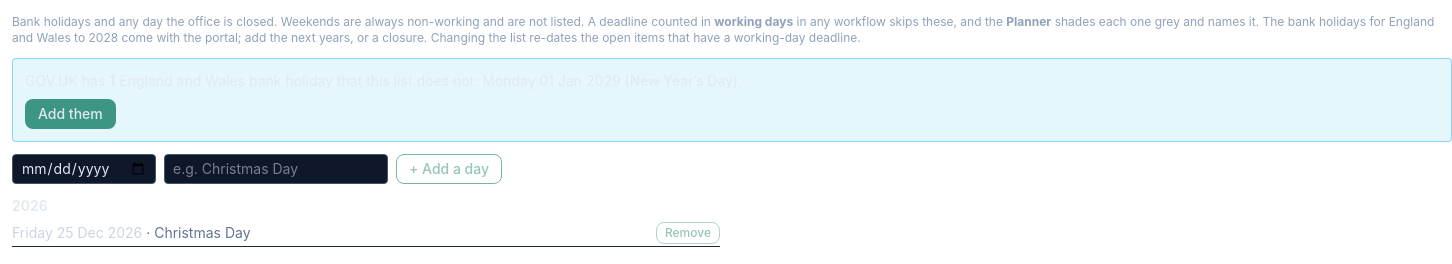
it: Admin → Non-working days › offers the days GOV.UK has that the list lacks, and adds them only when asked
Expected: the element with test id "gov-offer" shows "GOV.UK has 1 England and Wales bank holiday", left=12, top=58, right=1451, bottom=142
Click the button "Add them": (70, 114) left=25, top=99, right=116, bottom=129
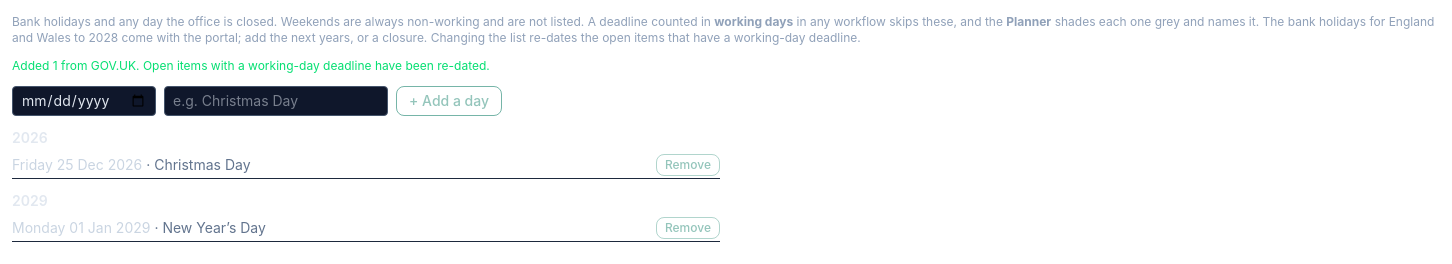
Expected: the element with test id "gov-offer" is gone
